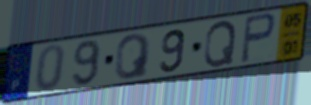0: (31, 42, 69, 94)
9: (71, 38, 103, 88), (159, 28, 186, 74)
P: (239, 11, 278, 65)
Q: (113, 31, 153, 81), (202, 19, 238, 69)
